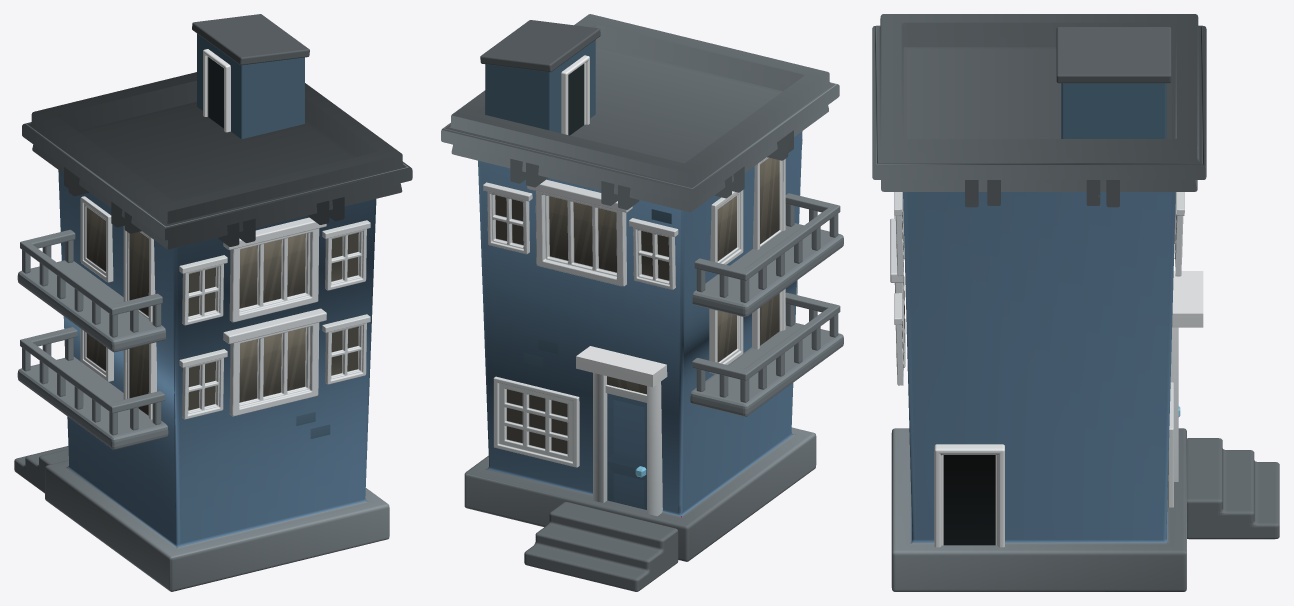
The model's file is azul 3.fbx.
The picture shows the model from 3 angles, left to right: view 1: azimuth 30°, elevation 25°; view 2: azimuth 150°, elevation 25°; view 3: azimuth 270°, elevation 25°; orthographic projection. The views are drawn at different scales.
Visible parts, largest first — view 1: building_C_withoutBase.005; view 2: building_C_withoutBase.005; view 3: building_C_withoutBase.005.
Boxes of the visible parts, <box> form: building_C_withoutBase.005: <box>14,14,412,591</box>; building_C_withoutBase.005: <box>441,14,843,591</box>; building_C_withoutBase.005: <box>872,14,1279,591</box>.
Bounding box in the file's own units: 1234 × 1921 × 1351.
Materials: 7 (7 with a texture image).
